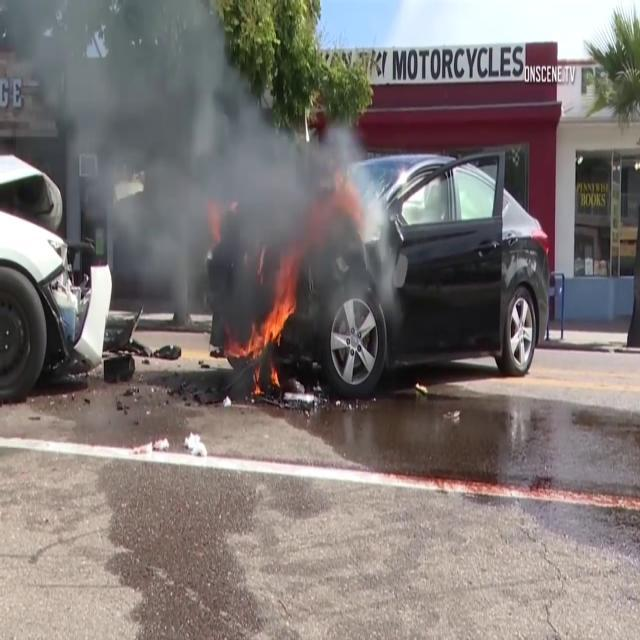Fire: (243, 269, 290, 372)
Smoke: (7, 0, 362, 316)
